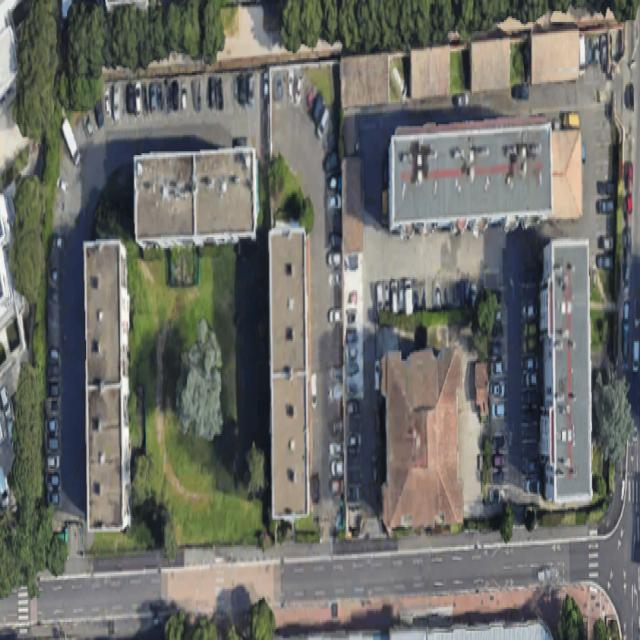maison: (386, 124, 554, 232), (83, 239, 133, 532), (128, 144, 262, 251), (541, 239, 591, 499), (268, 231, 308, 517)
